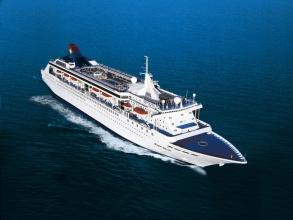youlun: (40, 40, 249, 169)
